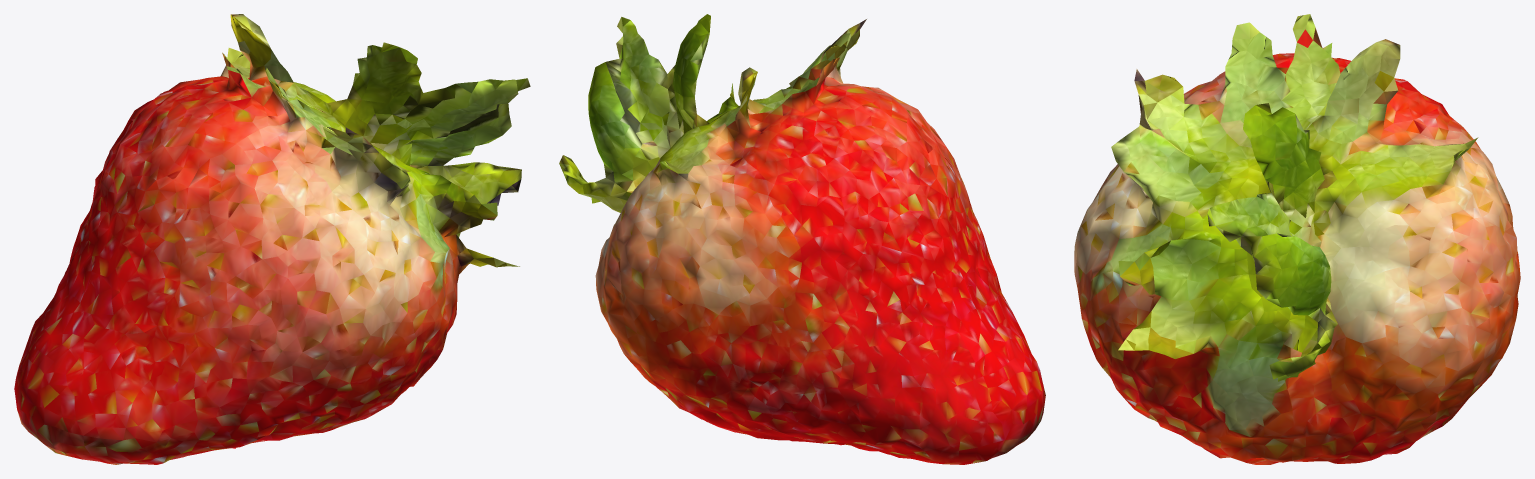
Rendered from strawberry_low_poly.glb.
3 views of the same model, side by side, from view 1: azimuth 30°, elevation 25°; view 2: azimuth 150°, elevation 25°; view 3: azimuth 270°, elevation 25° (orthographic). The views are drawn at different scales.
Visible parts, largest first — view 1: Object_2; view 2: Object_2; view 3: Object_2.
Part boxes in pixels (x1,y1,x2,y2): Object_2: (14, 14, 530, 464); Object_2: (559, 14, 1045, 464); Object_2: (1074, 14, 1520, 464).
Size of the model in its own units: 0.506 by 0.3662 by 0.3681.
Materials: 1 (1 with a texture image).
